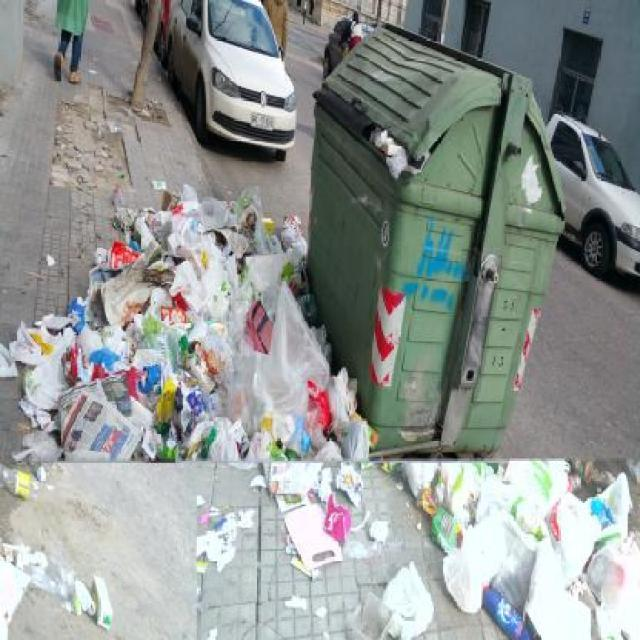garbage: (17, 220, 304, 462), (403, 465, 640, 640), (166, 466, 380, 583)
